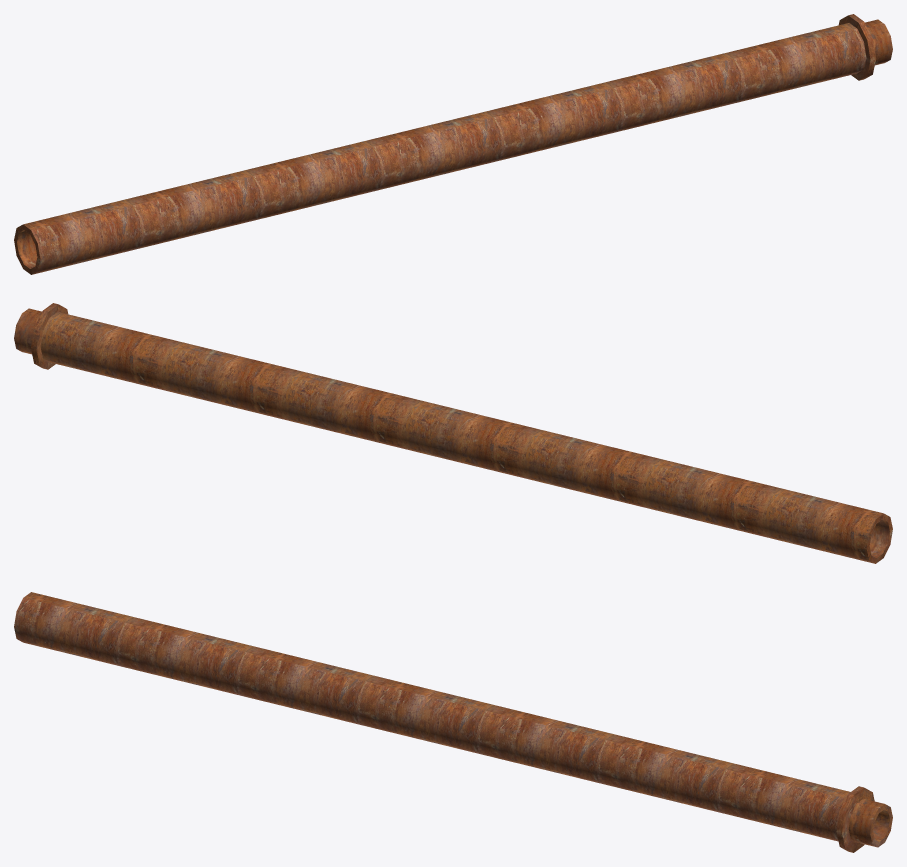
Rendered from PipeLongA.FBX.
The picture shows the model from 3 angles, top to bottom: view 1: azimuth 30°, elevation 25°; view 2: azimuth 150°, elevation 25°; view 3: azimuth 330°, elevation 25°; orthographic projection.
Visible parts, largest first — view 1: PipeLong; view 2: PipeLong; view 3: PipeLong.
Boxes of the visible parts, bbox=[...] form: PipeLong: bbox=[14, 14, 892, 274]; PipeLong: bbox=[14, 303, 892, 563]; PipeLong: bbox=[14, 592, 892, 852].
Bounding box in the file's own units: 474 × 30.61 × 32.79.
